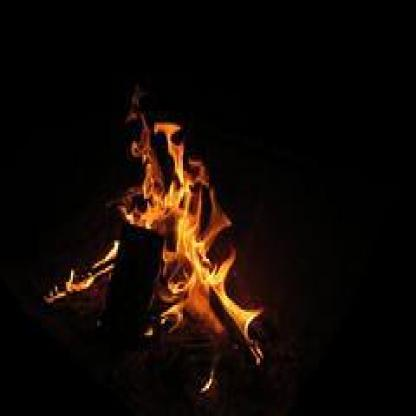fire: (41, 77, 284, 386)
